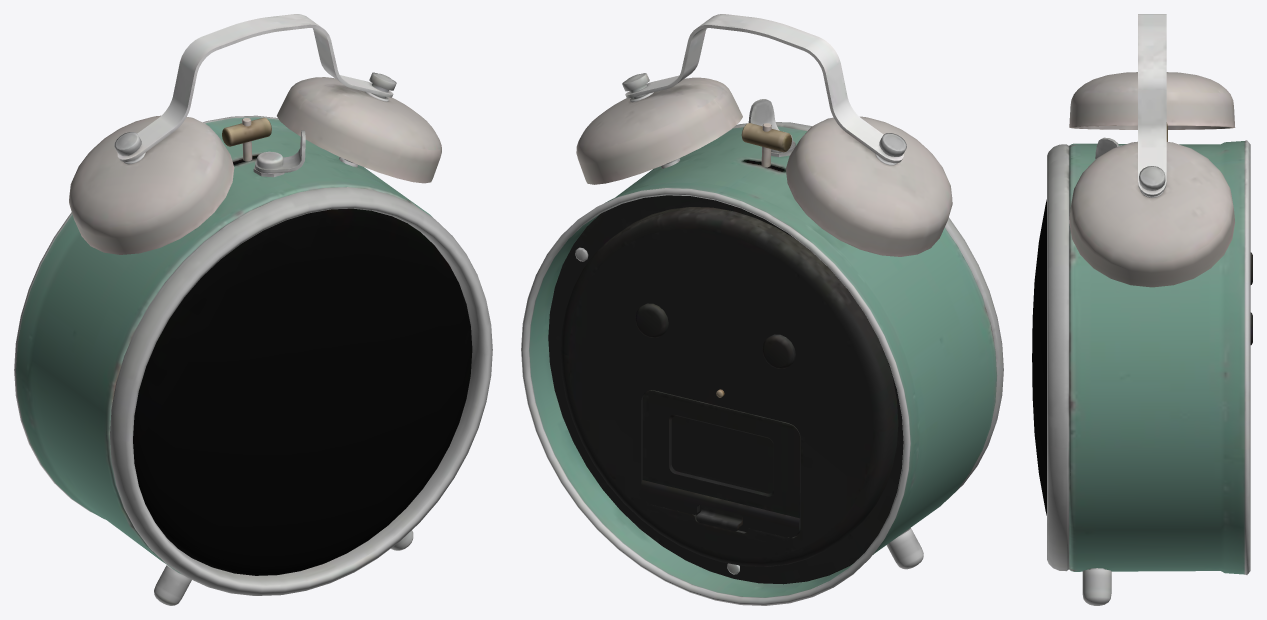
The model's file is alarm.glb.
3 renders of one model, left to right at view 1: azimuth 30°, elevation 25°; view 2: azimuth 150°, elevation 25°; view 3: azimuth 270°, elevation 25°, orthographic. The views are drawn at different scales.
Parts seen in each view (by area): view 1: alarm_0.001, alarm_0; view 2: alarm_0.001; view 3: alarm_0.001, alarm_0.
Boxes of the visible parts, left/top/right/bottom form: alarm_0.001: left=14, top=14, right=492, bottom=605; alarm_0: left=133, top=208, right=472, bottom=575; alarm_0.001: left=521, top=14, right=1003, bottom=605; alarm_0.001: left=1047, top=14, right=1252, bottom=605; alarm_0: left=1032, top=199, right=1046, bottom=515.
Size of the model in its own units: 0.1317 by 0.1742 by 0.0667.
2 materials, 2 textured.
